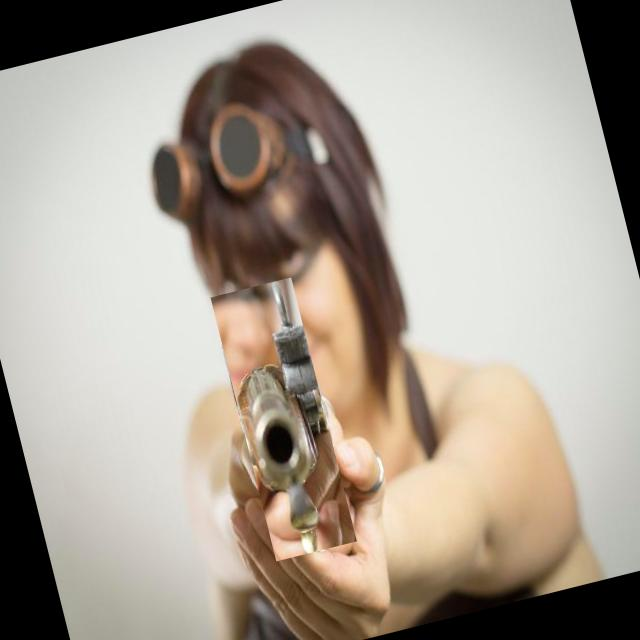Gun: (237, 281, 327, 553)
